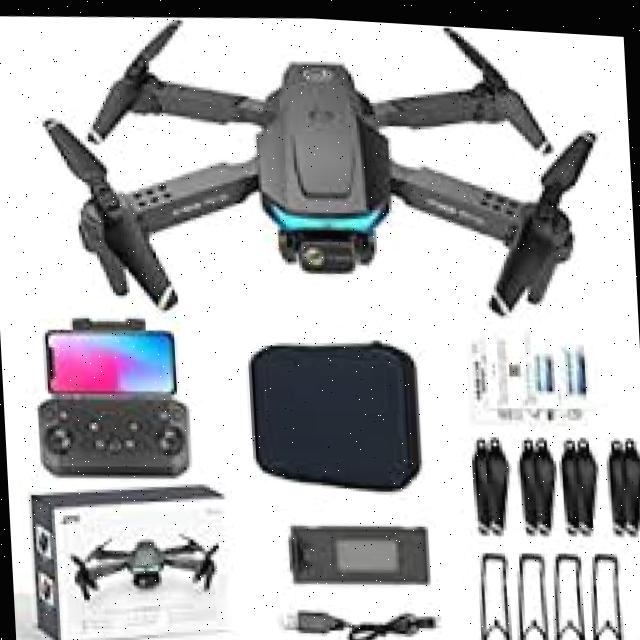drone: (27, 1, 615, 369)
